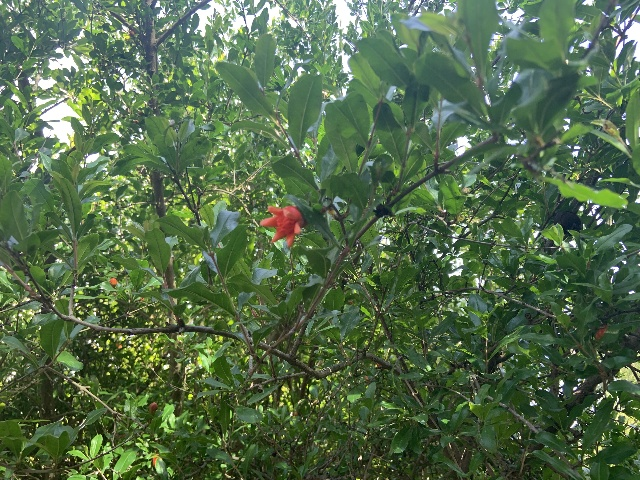bud: (594, 324, 607, 340), (148, 402, 158, 415), (109, 277, 117, 286)
flower: (259, 204, 304, 247)
